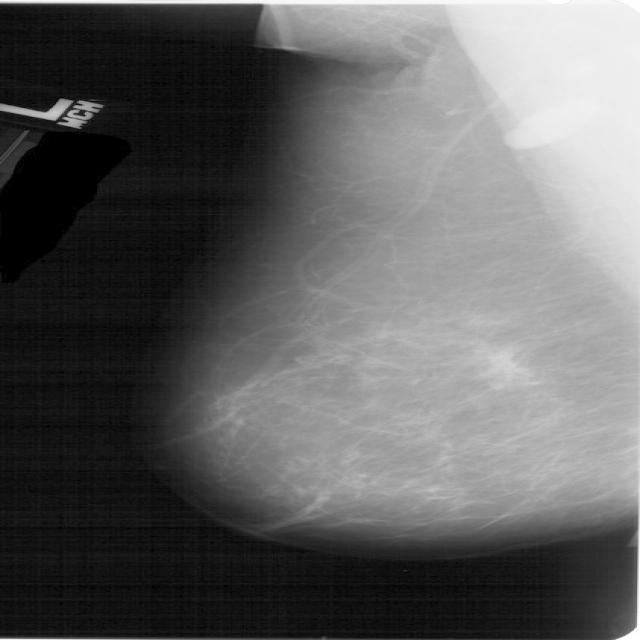tumour: (478, 345, 532, 385)
